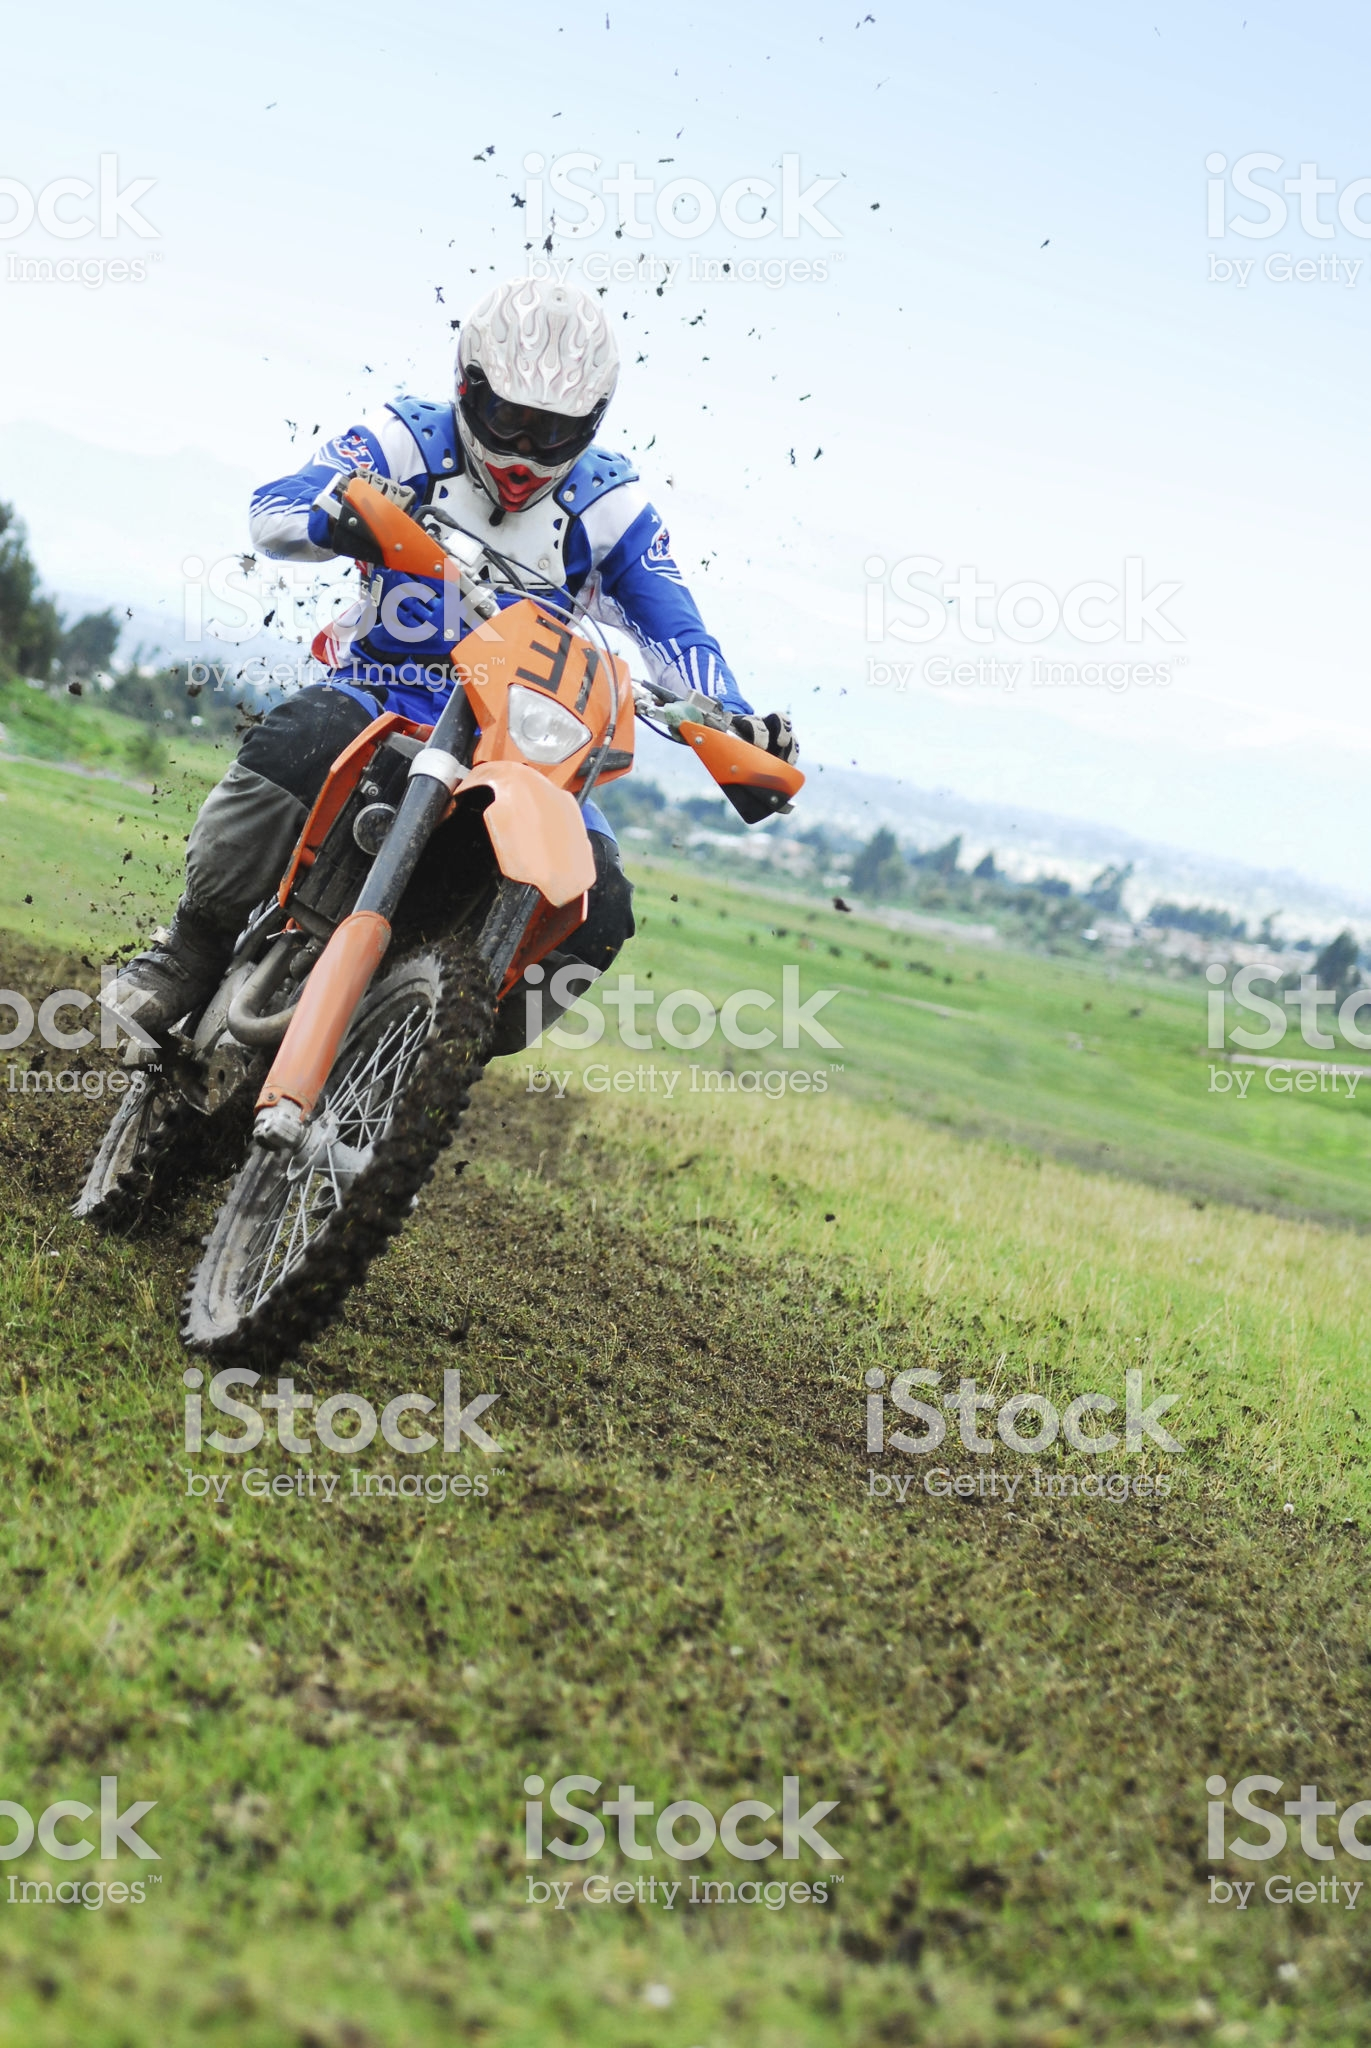helmet: (458, 260, 653, 479)
